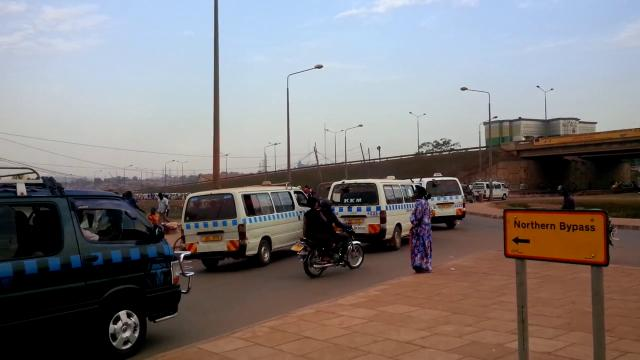motorcycle: (293, 195, 363, 283)
van: (0, 182, 181, 356), (181, 182, 292, 268), (328, 177, 422, 250), (410, 174, 468, 226), (471, 181, 509, 201)
